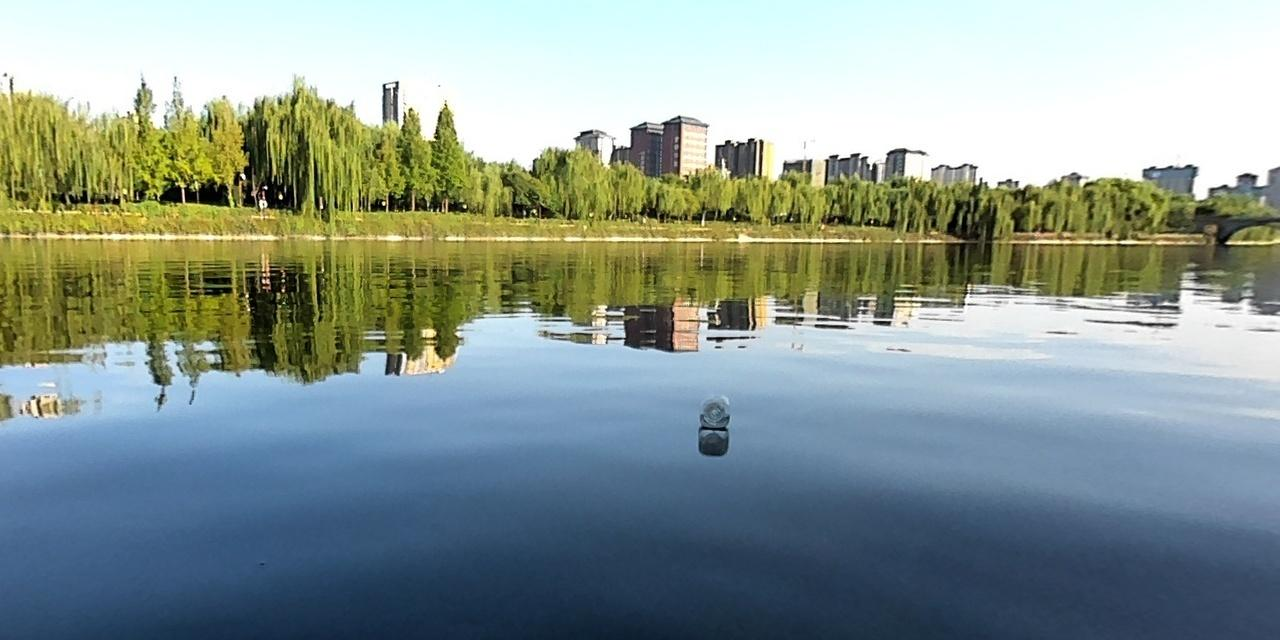bottle: (693, 390, 736, 431)
